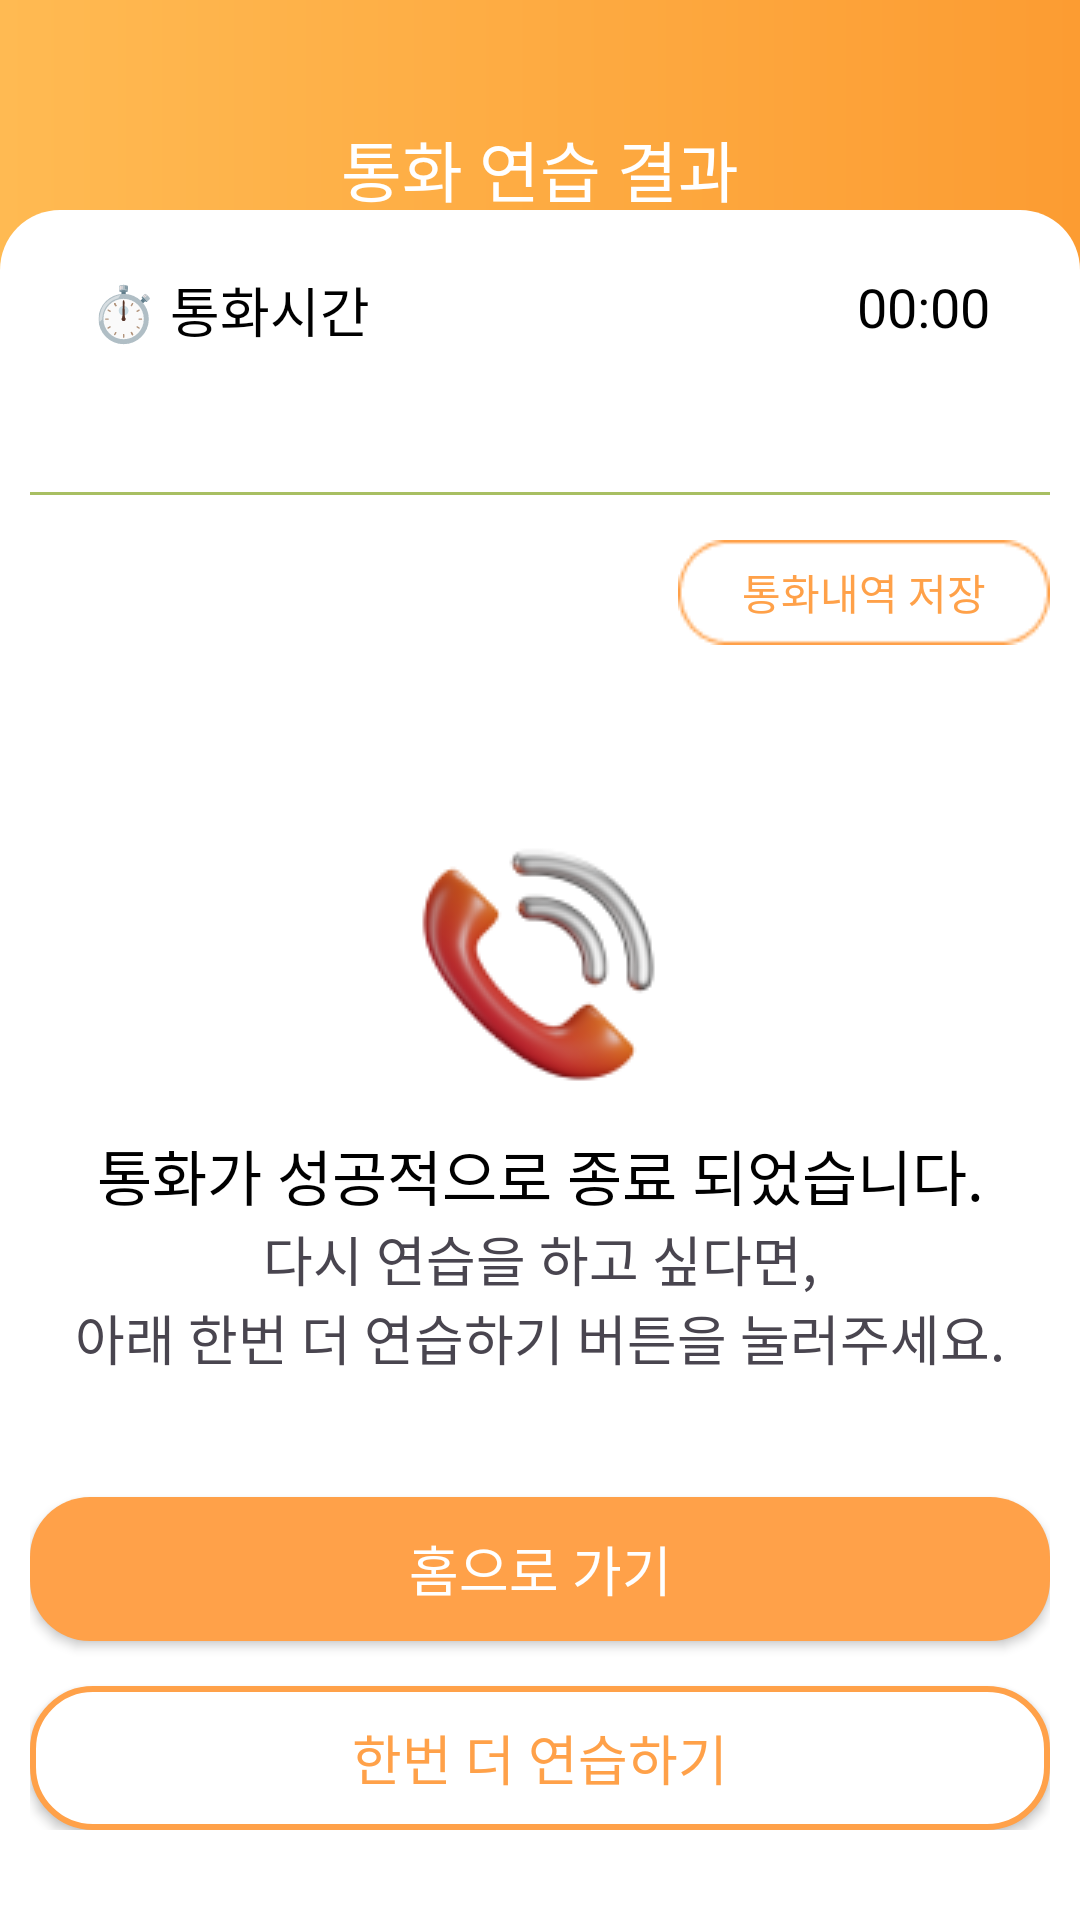

Icon click points for this 1080px x 1920px phone screenshot, format [x,y]:
phone 3d: [538,966]
